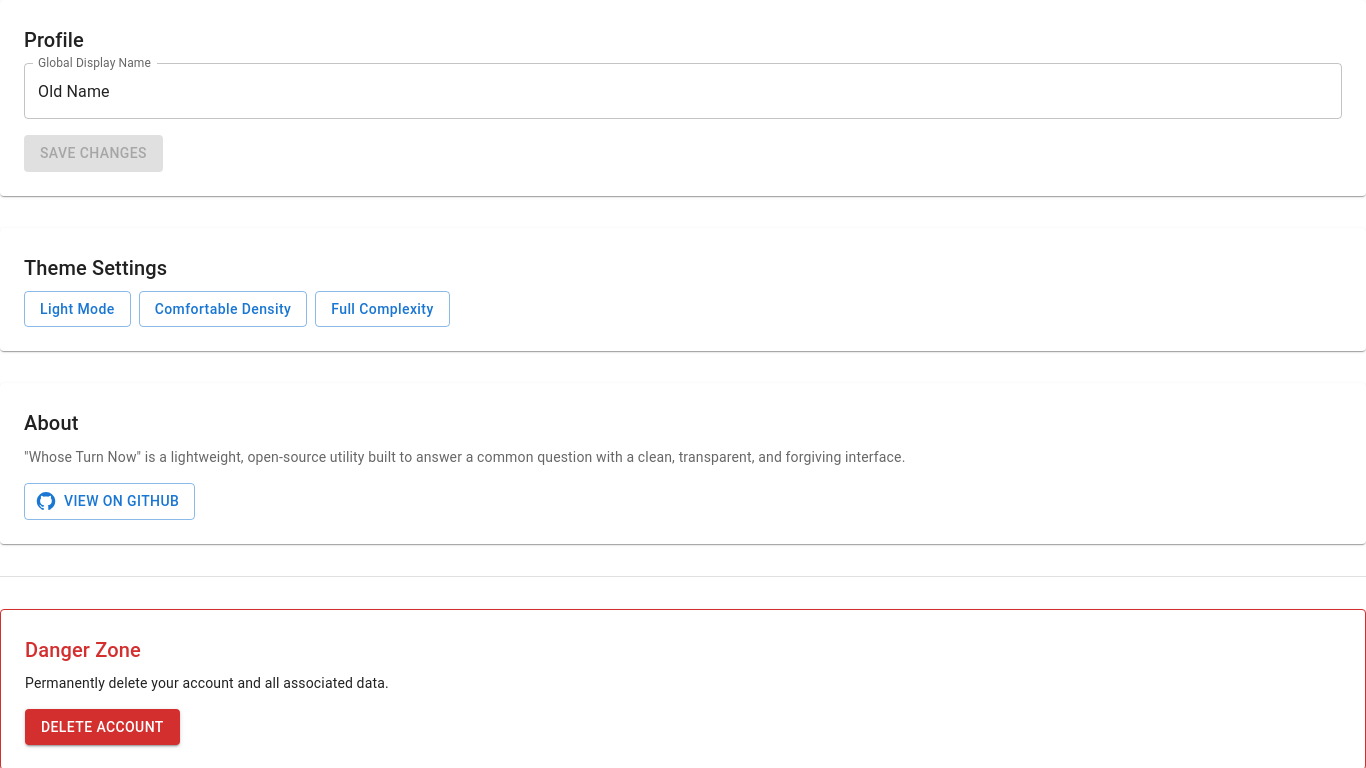
Test: SettingsScreen › should BLOCK deletion and show a warning if the user is the last admin
Click the button "Delete Account".
click(102, 727)  # box [25, 708, 180, 745]
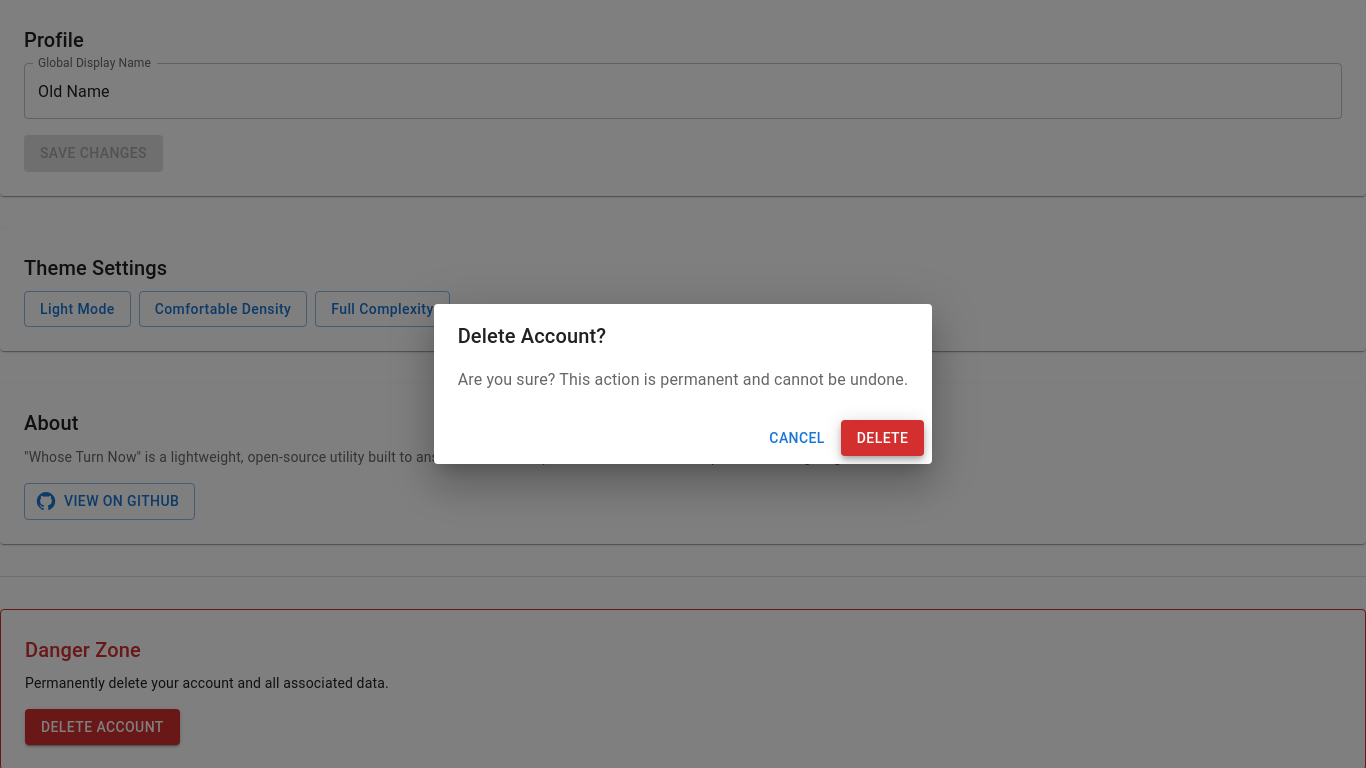
Click the button "Delete".
click(883, 438)  # box [841, 420, 924, 456]
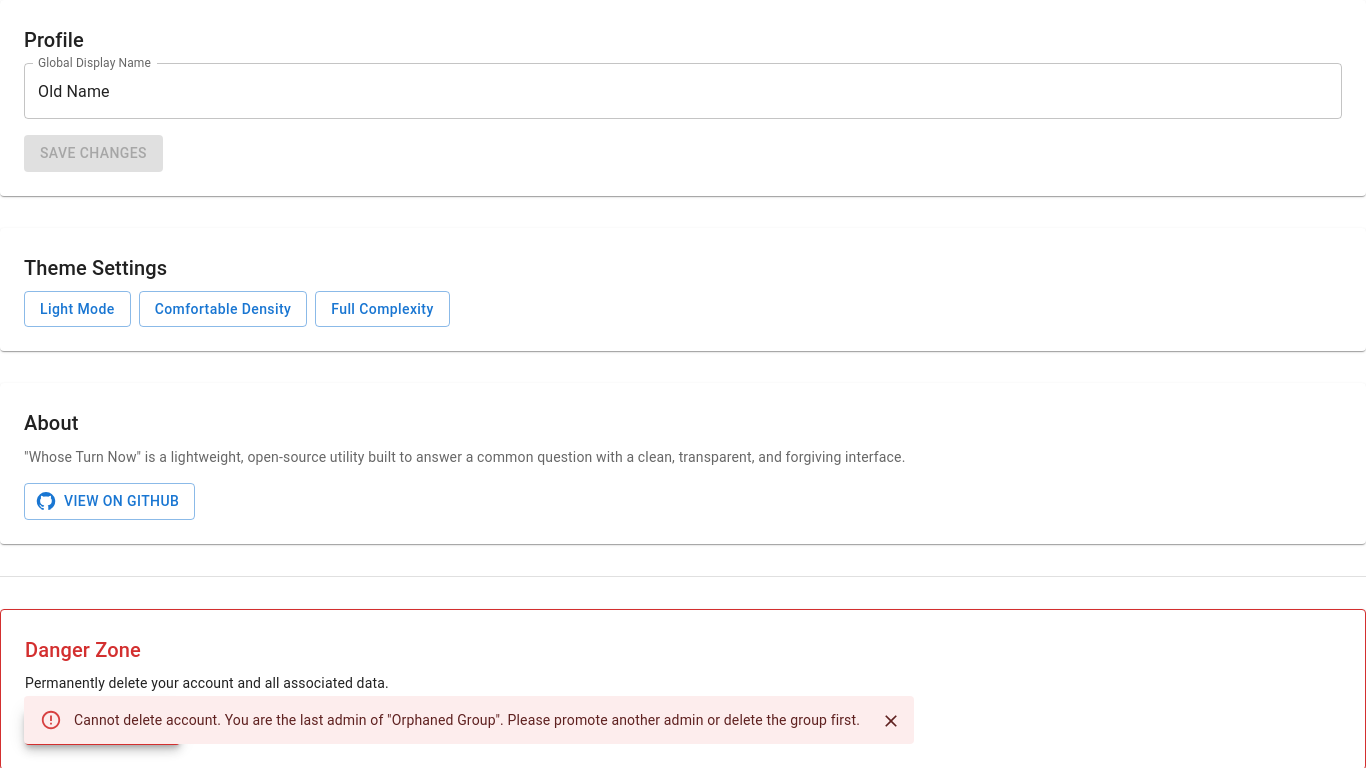
Now the text "Cannot delete account. You are the last admin of \"Orphaned Group\"." is shown, box [74, 712, 860, 728]
